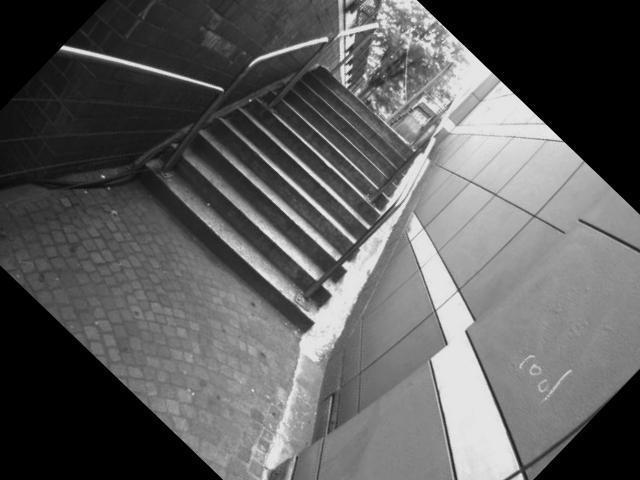Escaleras: (0, 154, 415, 480), (131, 21, 448, 338)
